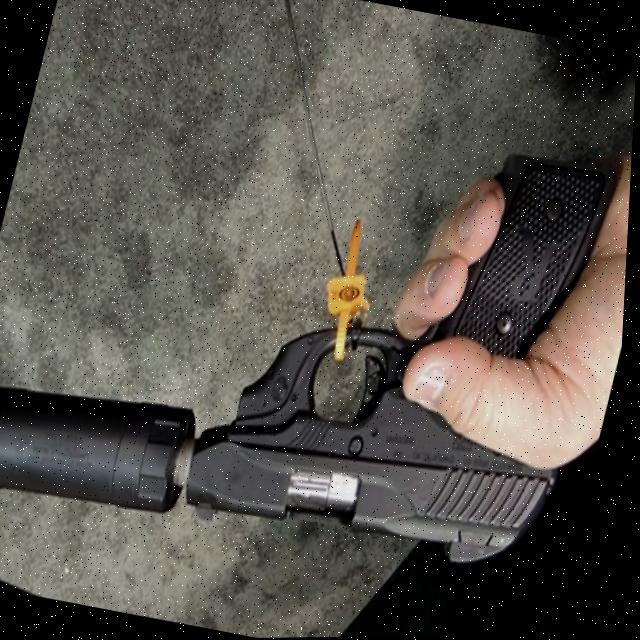pistol: (0, 59, 637, 597)
